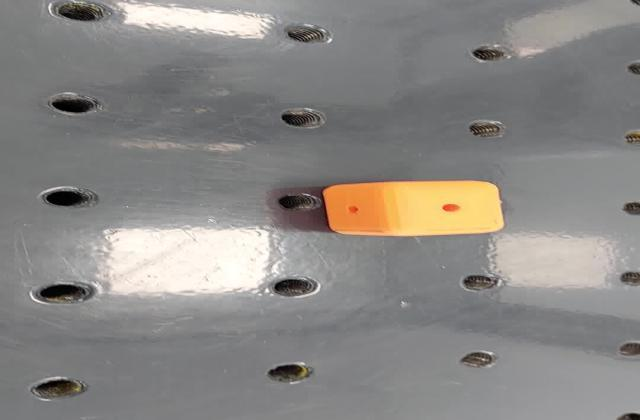cube: (317, 178, 513, 240)
